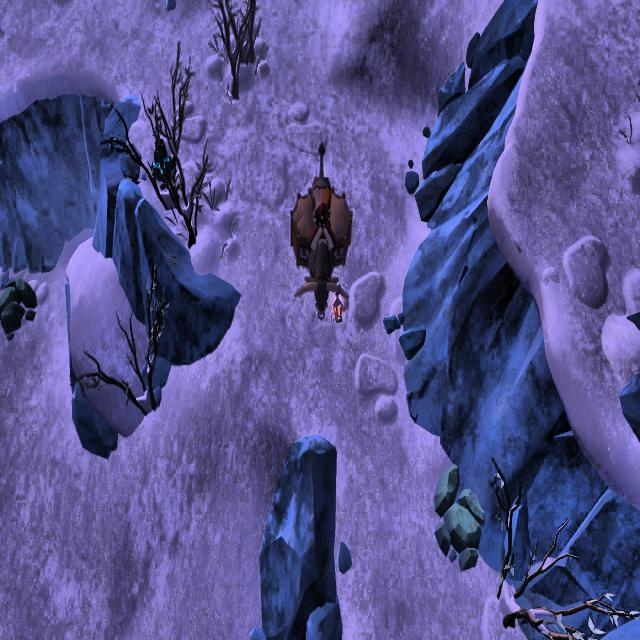ore_t4: (152, 132, 170, 174)
rock_t3: (430, 463, 487, 568), (0, 269, 40, 347)
